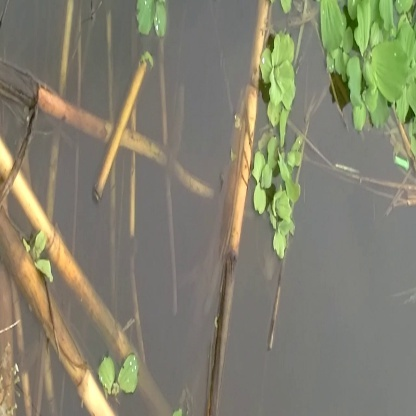branch: (98, 49, 163, 212)
